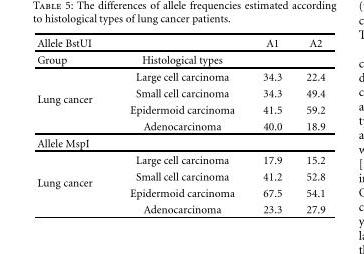table: (36, 36, 324, 215)
table column: (110, 36, 248, 215), (36, 36, 110, 215), (248, 36, 293, 215), (293, 36, 324, 215)
table column header: (36, 36, 324, 51)
table projected row header: (36, 134, 324, 151)
table row: (36, 51, 324, 68), (36, 84, 324, 101), (36, 117, 324, 134), (36, 134, 324, 151), (36, 151, 324, 168), (36, 68, 324, 84), (36, 101, 324, 117), (36, 168, 324, 184), (36, 184, 324, 200), (36, 36, 324, 51), (36, 200, 324, 215)
table spanning cell: (36, 68, 110, 134), (36, 151, 110, 215)
